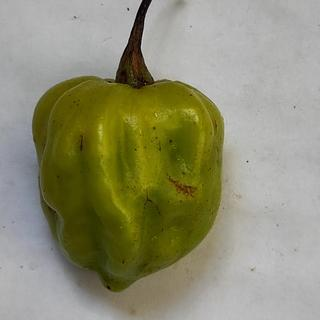Defect: (160, 168, 207, 204)
Fly-bites: (51, 170, 67, 184), (152, 140, 165, 157), (116, 257, 130, 271), (166, 134, 178, 148), (149, 120, 159, 135), (104, 282, 114, 292)
striped: (78, 134, 85, 154)
